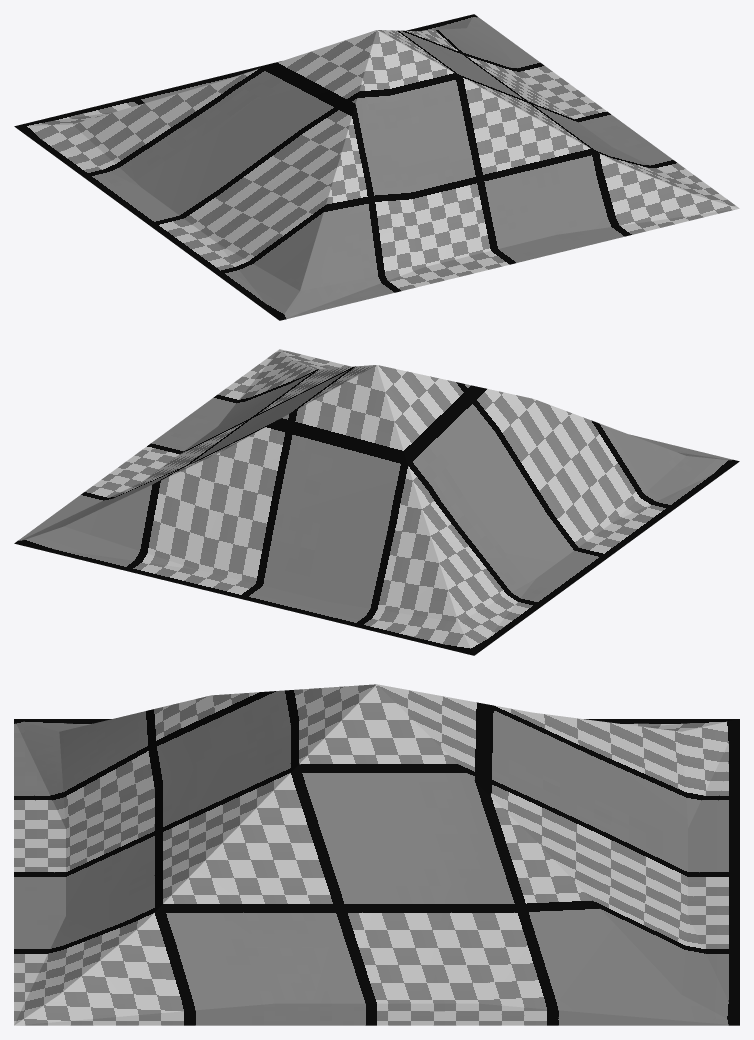
File: roof_6510613.glb
3 renders of one model, top to bottom at view 1: azimuth 30°, elevation 25°; view 2: azimuth 150°, elevation 25°; view 3: azimuth 270°, elevation 25°, orthographic. The views are drawn at different scales.
Visible parts, largest first — view 1: mesh; view 2: mesh; view 3: mesh.
Boxes of the visible parts, bbox=[...] form: mesh: bbox=[14, 14, 739, 320]; mesh: bbox=[14, 349, 739, 655]; mesh: bbox=[14, 684, 739, 1025].
Bounding box in the file's own units: 14 × 4 × 14.
1 material, 1 textured.
